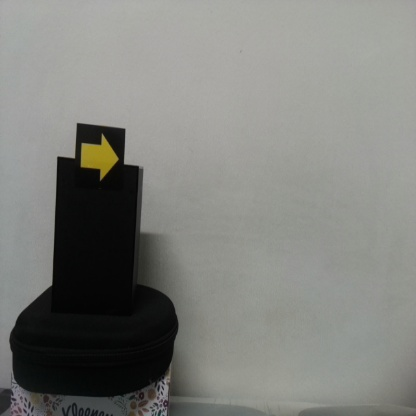id_3: (77, 125, 125, 189)
